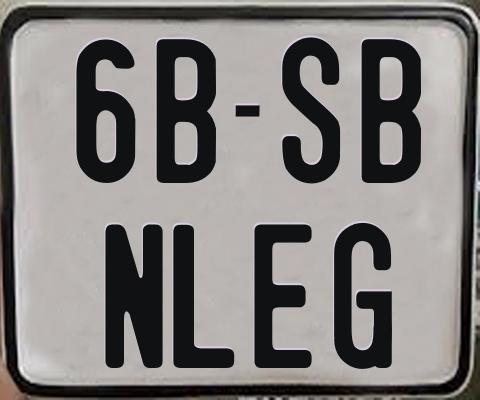6: (74, 39, 134, 187)
B: (156, 36, 218, 183), (360, 36, 422, 181)
E: (253, 221, 313, 368)
G: (332, 220, 391, 368)
L: (171, 225, 235, 374)
N: (102, 222, 164, 367)
S: (282, 37, 346, 184)
